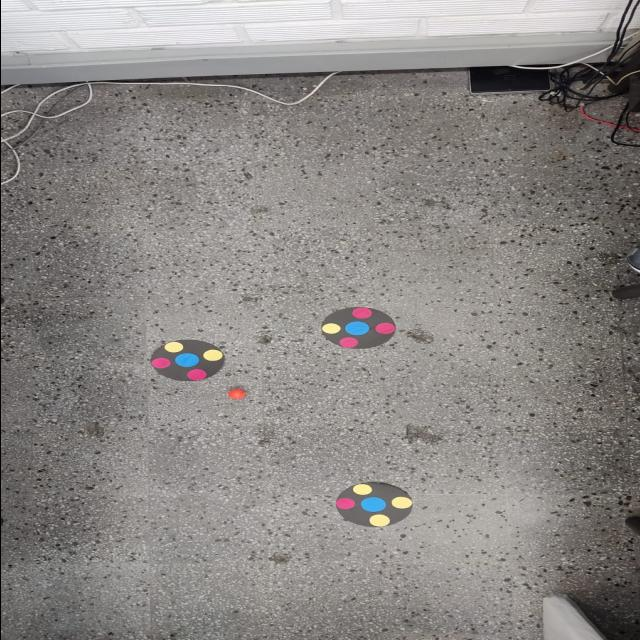0: (320, 304, 396, 352)
1: (148, 338, 227, 384)
2: (334, 480, 416, 529)
Ball: (226, 388, 246, 400)
